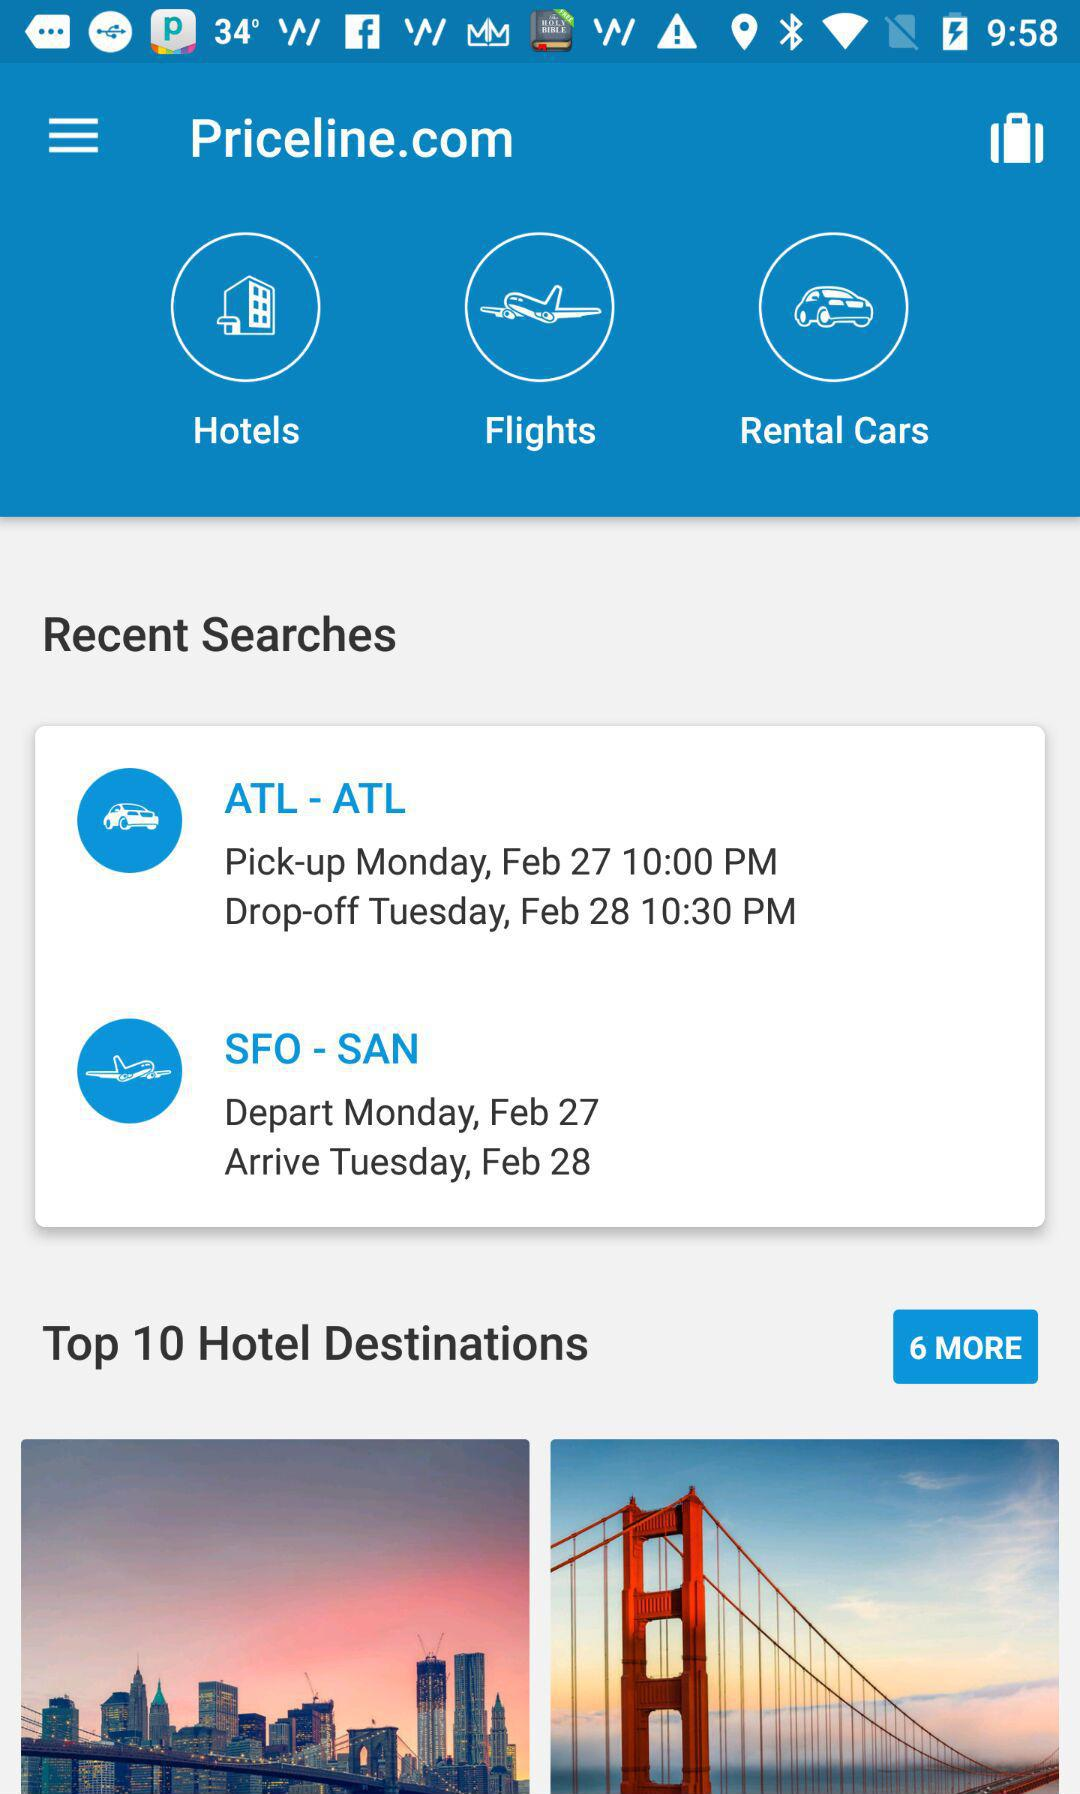Card: (33, 721, 1048, 1230)
Icon: (990, 111, 1044, 165), (47, 117, 101, 156)
Image: (22, 1438, 530, 1794), (551, 1439, 1060, 1794), (464, 231, 616, 384), (758, 232, 910, 384), (170, 232, 322, 384), (77, 1017, 183, 1124), (77, 768, 184, 873)
Text: (44, 1325, 588, 1371), (225, 897, 796, 933), (227, 848, 776, 884), (228, 1096, 600, 1134), (224, 1146, 591, 1184), (192, 117, 512, 160), (46, 614, 397, 654), (225, 1032, 418, 1065), (225, 783, 407, 815), (740, 415, 929, 446), (487, 415, 597, 454), (195, 415, 301, 446)
TextButton: (893, 1310, 1039, 1385)
UpperTaskBar: (1, 1, 1080, 64)
